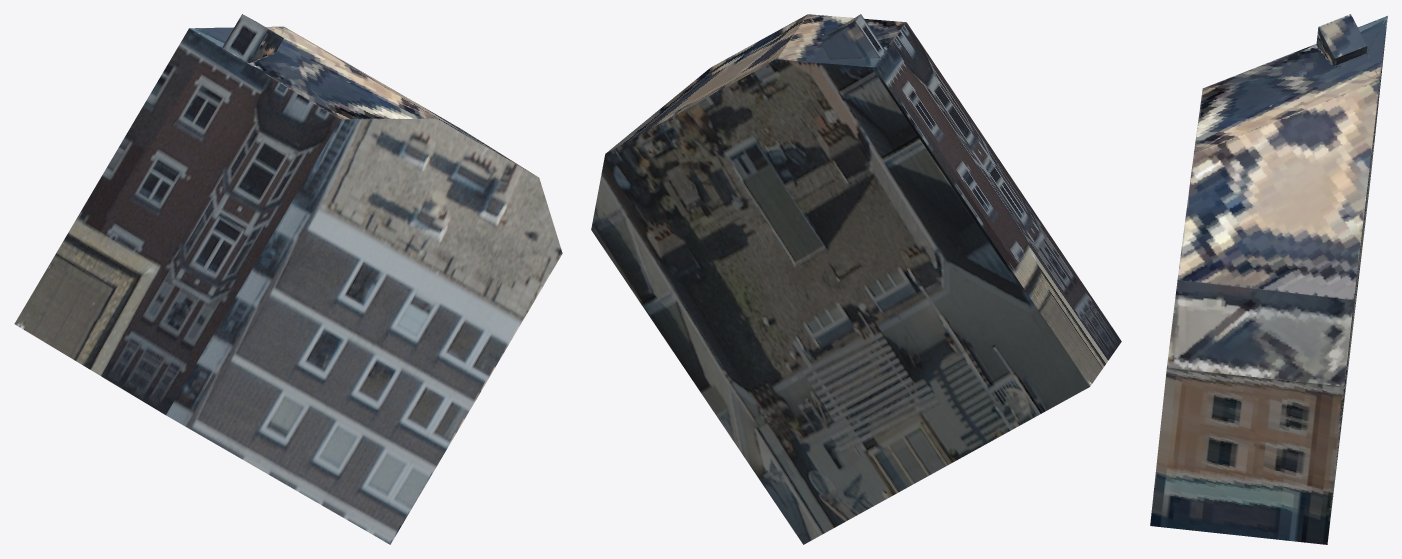
3 views of the same model, side by side, from view 1: azimuth 30°, elevation 25°; view 2: azimuth 150°, elevation 25°; view 3: azimuth 270°, elevation 25° (orthographic). The views are drawn at different scales.
Visible parts, largest first — view 1: BAG_0599100000671750 (×4); view 2: BAG_0599100000671750 (×5); view 3: BAG_0599100000671750 (×4).
Boxes of the visible parts, <box> form: BAG_0599100000671750 (×4): <box>14,14,562,544</box>; BAG_0599100000671750 (×5): <box>591,14,1121,544</box>; BAG_0599100000671750 (×4): <box>1150,14,1387,544</box>.
Bounding box in the file's own units: 19.94 × 20.34 × 8.73.
Materials: 5 (5 with a texture image).
